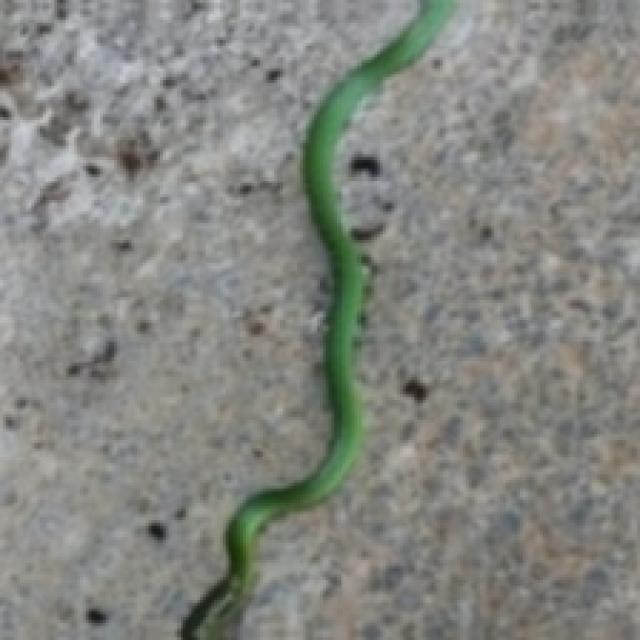red-tailed green ratsnake: (180, 0, 454, 637)
